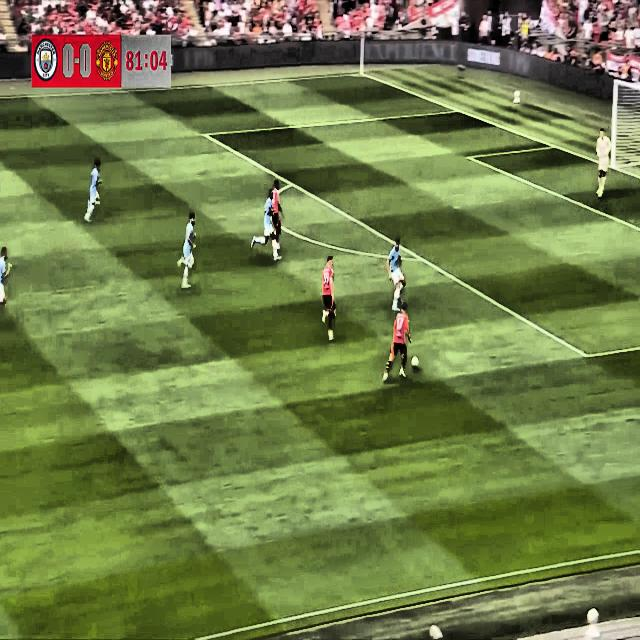ball: (410, 349, 420, 374)
goal_keeper: (589, 114, 616, 204)
players: (375, 299, 412, 396), (248, 182, 281, 267), (316, 252, 342, 352), (385, 233, 410, 330), (176, 208, 198, 298), (264, 168, 289, 245), (83, 154, 107, 225), (0, 230, 13, 325)
